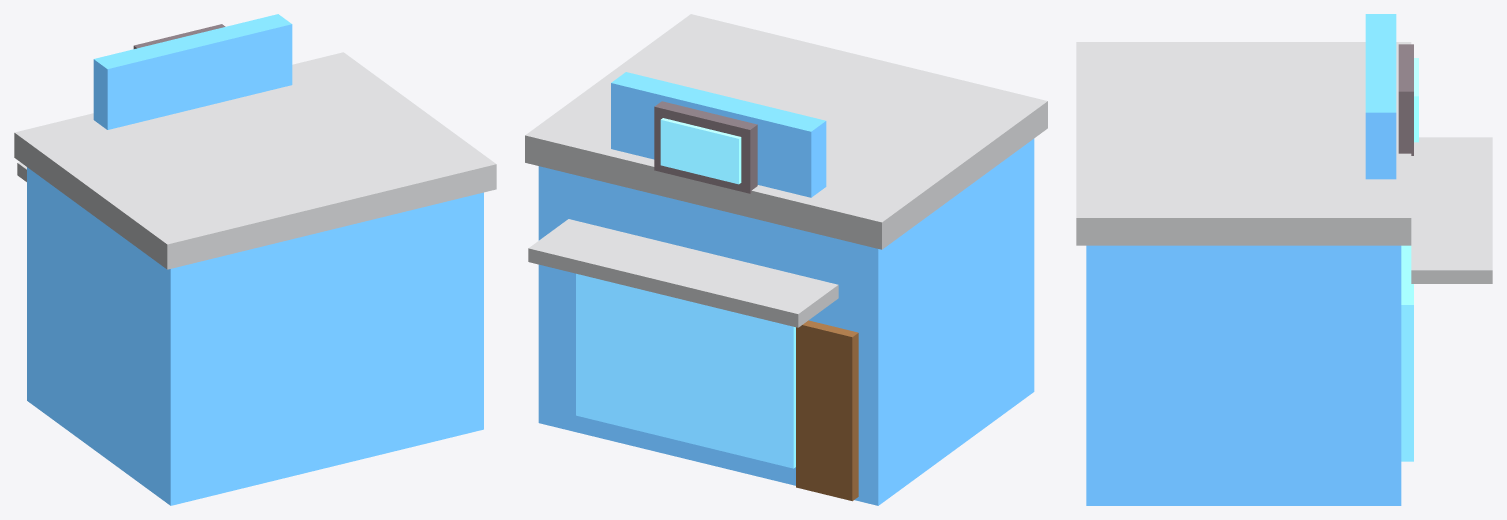
Rendered from electronics_store.glb.
3 renders of one model, left to right at view 1: azimuth 30°, elevation 25°; view 2: azimuth 150°, elevation 25°; view 3: azimuth 270°, elevation 25°, orthographic. The views are drawn at different scales.
Visible parts, largest first — view 1: electronics_store; view 2: electronics_store; view 3: electronics_store.
Part boxes in pixels (bbox=[...]): electronics_store: bbox=[14, 14, 496, 505]; electronics_store: bbox=[525, 14, 1047, 505]; electronics_store: bbox=[1076, 14, 1492, 505].
Size of the model in its own units: 0.82 by 0.78 by 0.82.
